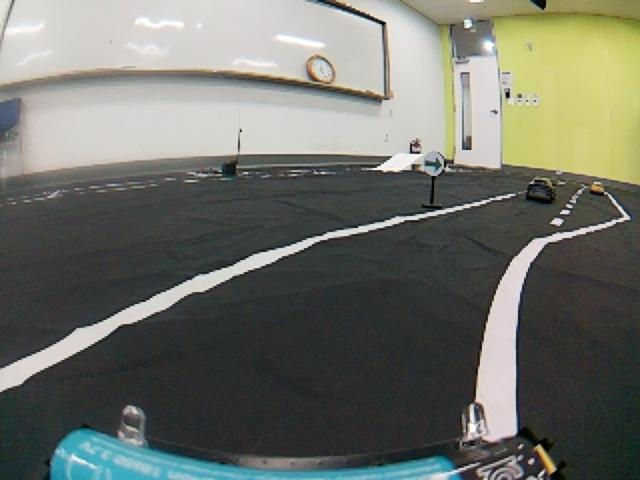car: (520, 169, 563, 209), (584, 174, 611, 195)
sign_right: (418, 149, 448, 175)
straight: (1, 266, 640, 480)
